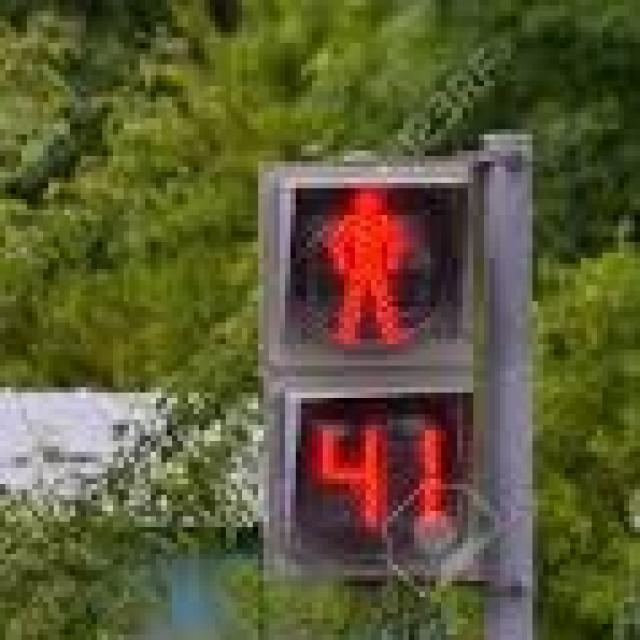red_light: (296, 161, 436, 355)
